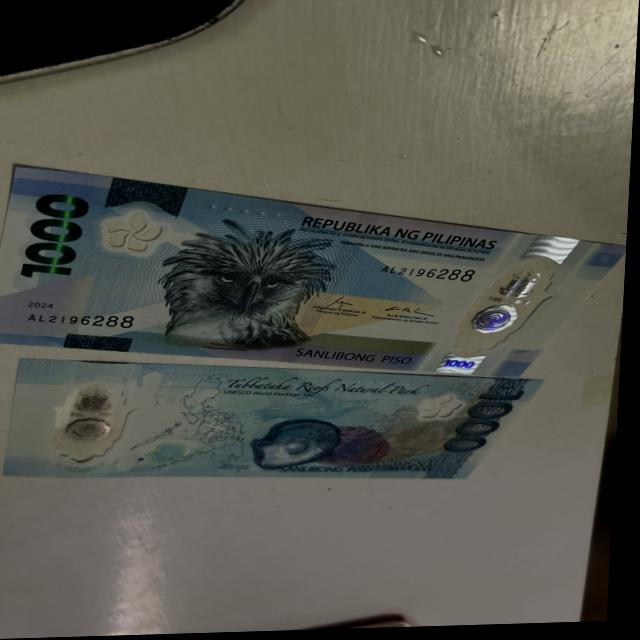clear_window: (453, 253, 566, 374), (50, 368, 134, 473)
optically_variable_device: (170, 224, 327, 363)
sampaguita: (100, 208, 169, 261), (417, 396, 464, 425)
serial_number: (26, 303, 152, 337), (372, 262, 488, 287)
value: (22, 191, 88, 284), (452, 381, 524, 465)
